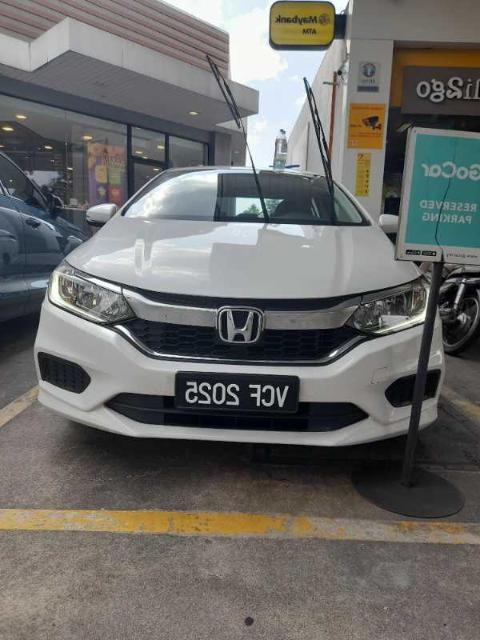License_Plate: (174, 371, 301, 415)
car: (35, 165, 448, 449)
